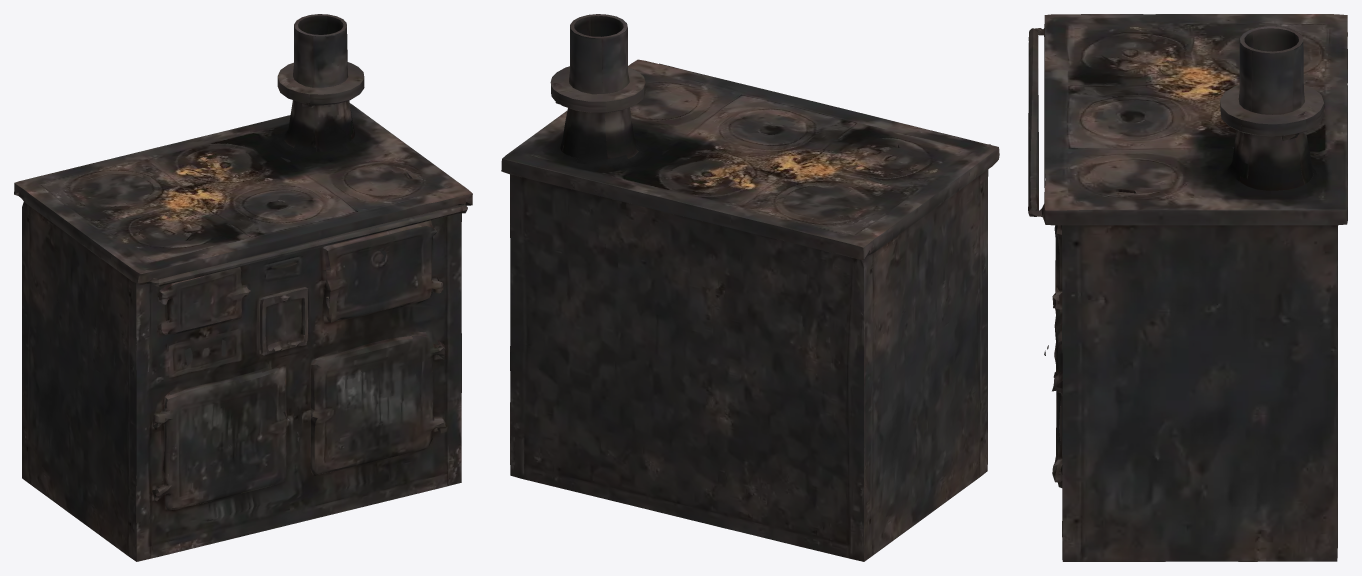
Rendered from range.glb.
The picture shows the model from 3 angles, left to right: view 1: azimuth 30°, elevation 25°; view 2: azimuth 150°, elevation 25°; view 3: azimuth 270°, elevation 25°; orthographic projection. The views are drawn at different scales.
Parts seen in each view (by area): view 1: Mesh_0; view 2: Mesh_0; view 3: Mesh_0.
Part boxes in pixels (left/top/right/bottom): Mesh_0: left=14, top=14, right=472, bottom=561; Mesh_0: left=501, top=14, right=999, bottom=561; Mesh_0: left=1028, top=14, right=1347, bottom=561.
Bounding box in the file's own units: 1.63 × 1.9 × 1.12.
1 material, 1 textured.
